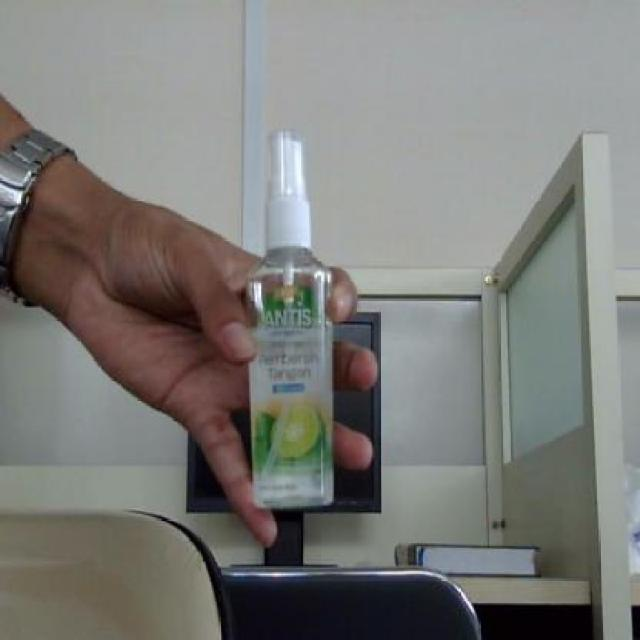Plastic: (247, 129, 335, 510)
